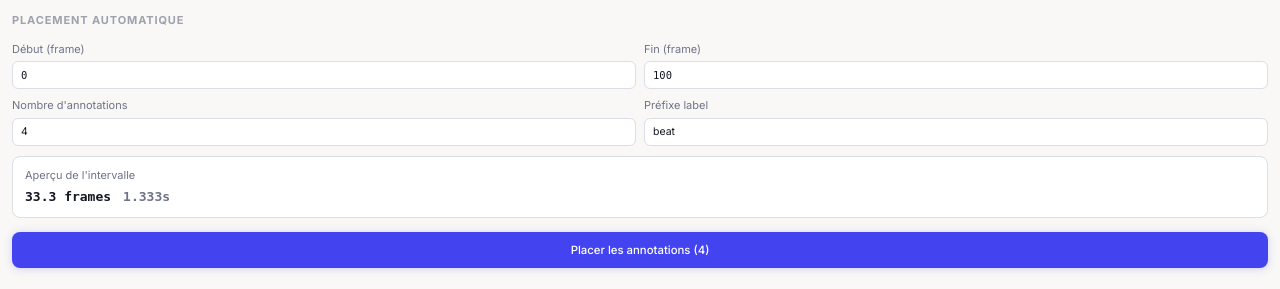
Test: BulkPlacementForm › shows interval preview
Check: the text "33.3 frames" is shown, box [25,187,111,206]
Replace the text in the number field labelled "Nombre d'annotations" with "5": (324, 132) [12,118,636,146]
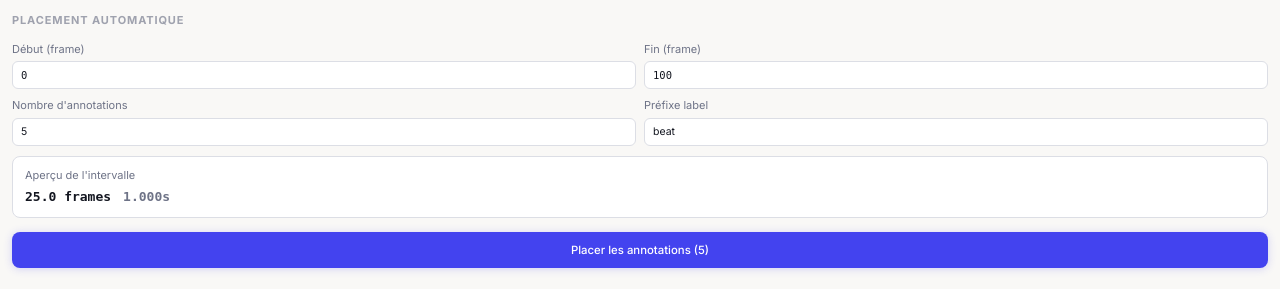
Check: the text "25.0 frames" is shown, box [25,187,111,206]
